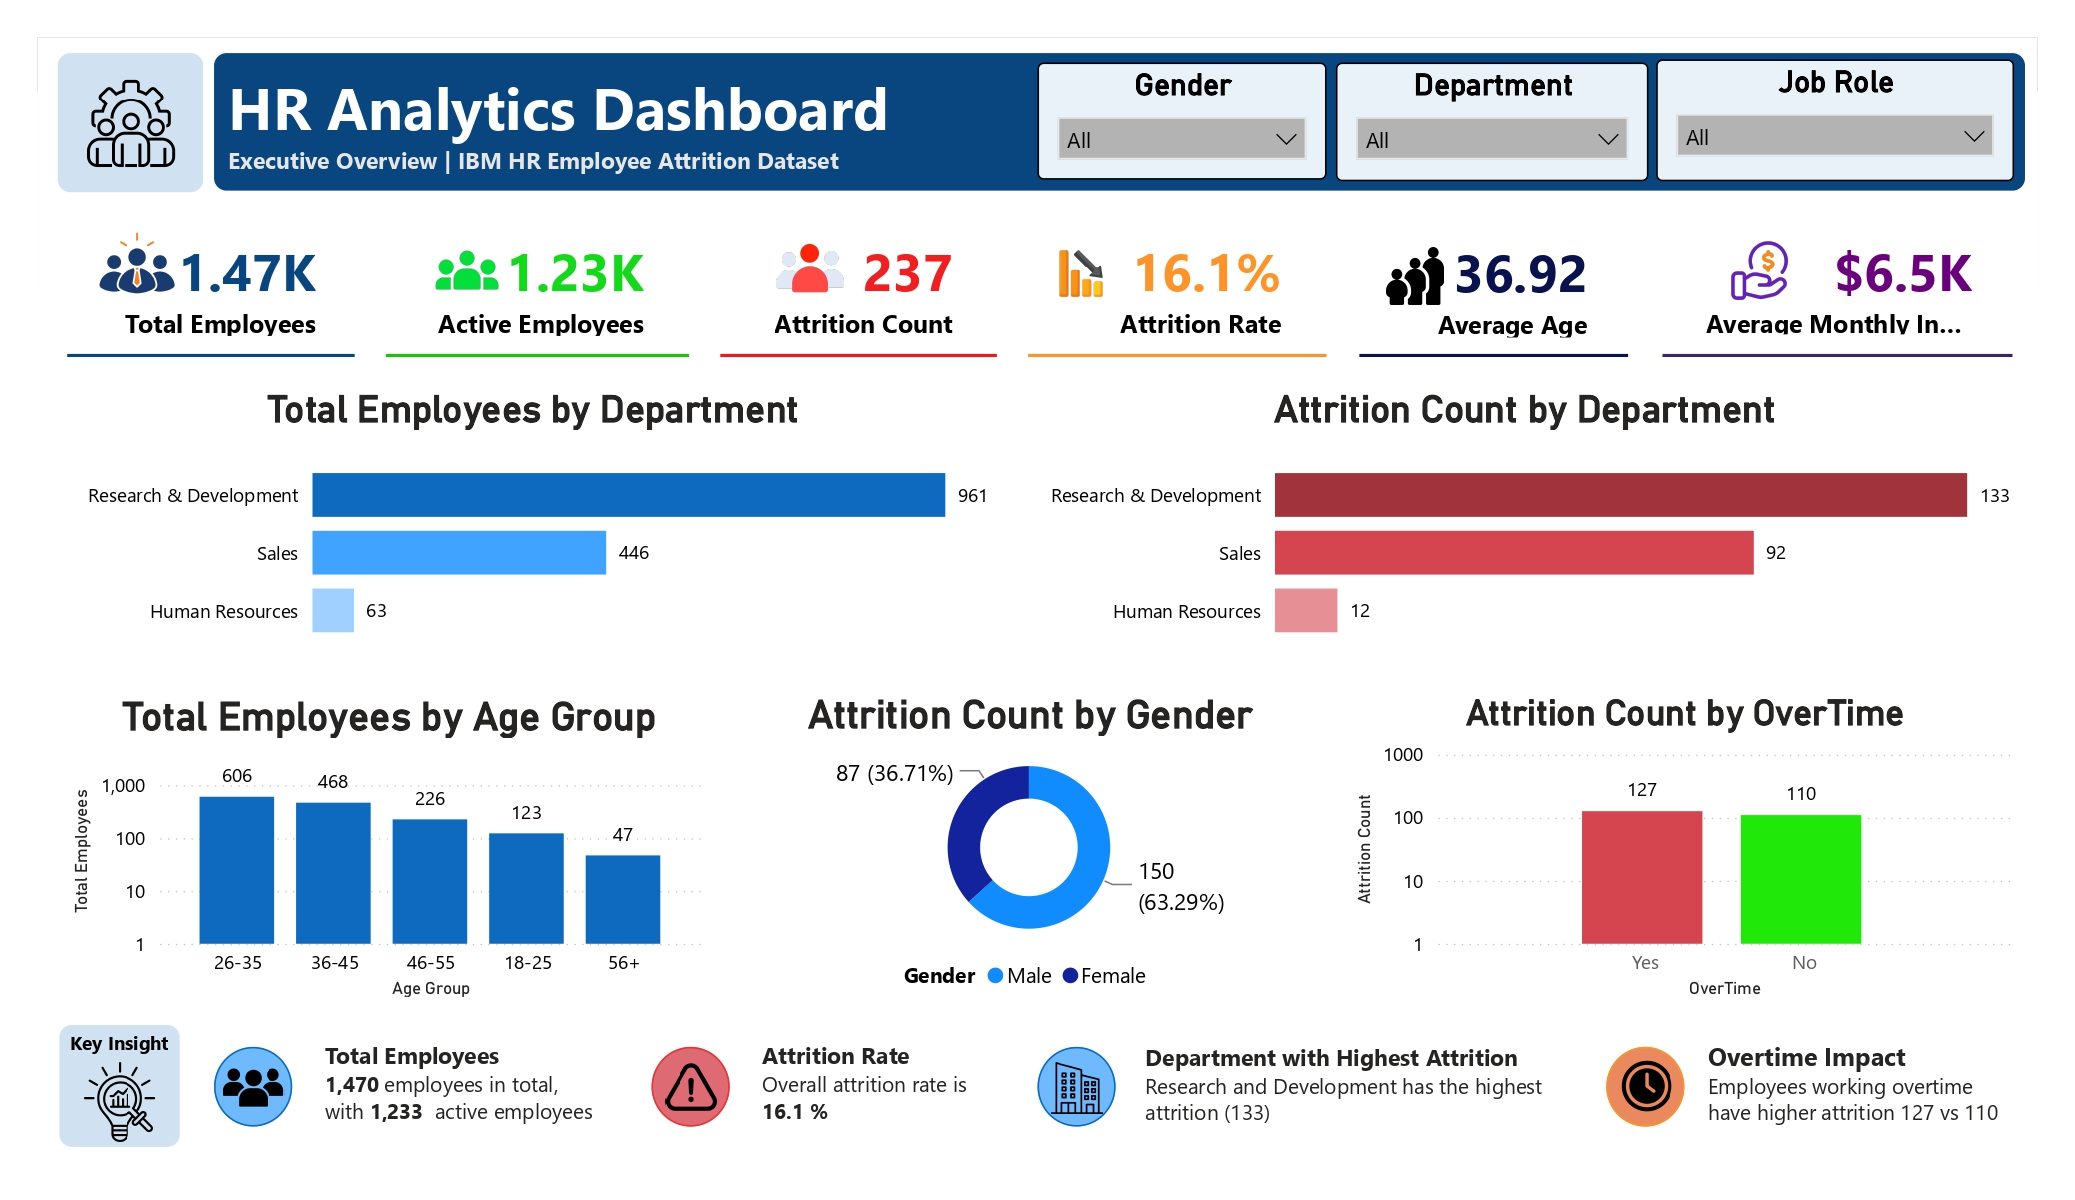

The page's visual inventory and layout, read from the dashboard file:
{"tool":"powerbi","page":{"name":"Page 1","canvas":[1280,720],"ordinal":0},"visuals":[{"type":"textbox","box":[112.6,10.5,1159.9,87.7],"z":0},{"type":"cardVisual","title":"Total Employes","fields":{"Data":["Employee.Total Employees"]},"box":[13.6,106.8,197.3,105.5],"z":1000},{"type":"cardVisual","title":"Active Employees","fields":{"Data":["Employee.Active Employees"]},"box":[218.9,106.7,202.2,105.6],"z":2000},{"type":"cardVisual","title":"Attrition Count","fields":{"Data":["Employee.Attrition Count"]},"box":[433.6,106.8,185.5,105.5],"z":3000},{"type":"cardVisual","title":"Attrition Rate","fields":{"Data":["Employee.Attrition Rate"]},"box":[630,106.8,200,105.5],"z":4000},{"type":"cardVisual","title":"Average Age ","fields":{"Data":["Employee.Average Age"]},"box":[838,107,187,106],"z":5000},{"type":"cardVisual","title":"Avg Monthly Income","fields":{"Data":["Employee.Average Monthly Income"]},"box":[1026.5,108.2,244.9,104.1],"z":6000},{"type":"clusteredBarChart","fields":{"Category":["Employee.Department"],"Y":["Employee.Total Employees"]},"box":[13.8,220,603.8,186.2],"z":7000},{"type":"clusteredBarChart","fields":{"Category":["Employee.Department"],"Y":["Employee.Attrition Count"]},"box":[630,220,641.8,186.4],"z":8000},{"type":"donutChart","fields":{"Category":["Employee.Gender"],"Y":["Employee.Attrition Count"]},"box":[442.5,413.8,383.8,208.8],"z":9000},{"type":"columnChart","fields":{"Category":["Employee.OverTime"],"Y":["Employee.Attrition Count"]},"box":[835.5,414.5,436.4,208.2],"z":10000},{"type":"clusteredColumnChart","fields":{"Category":["Employee.Age Group"],"Y":["Employee.Total Employees"]},"box":[13.8,415,420,207.5],"z":11000},{"type":"slicer","title":"Gender","fields":{"Values":["Employee.Gender"]},"box":[640,16,185,75],"z":12000},{"type":"slicer","title":"Job Role","fields":{"Values":["Employee.JobRole"]},"box":[1036.4,13.6,228.2,78.2],"z":13000},{"type":"slicer","title":"Department","fields":{"Values":["Employee.Department"]},"box":[830.9,16.4,200,75.5],"z":14000},{"type":"image","box":[18.6,110.7,51.4,62.1],"z":15000},{"type":"image","box":[232.9,122.9,41.4,50],"z":16000},{"type":"image","box":[452,125,43,48],"z":17000},{"type":"image","box":[648.6,131.4,38.6,40],"z":18000},{"type":"image","box":[862.9,131.4,37.1,41.4],"z":19000},{"type":"image","box":[1068.2,129.1,66.4,40],"z":20000},{"type":"textbox","box":[13.1,10.5,92.9,89],"z":21000},{"type":"image","box":[13.8,25,92.5,60],"z":22000},{"type":"textbox","box":[13.6,631.8,77.3,78.2],"z":23000},{"type":"textbox","box":[95.5,631.8,275.5,78.2],"z":24000},{"type":"textbox","box":[374.5,631.8,240,78.2],"z":25000},{"type":"textbox","box":[620,631.8,354.5,78.2],"z":26000},{"type":"textbox","box":[980,631.8,291.8,79.1],"z":27000},{"type":"image","title":"Key Insight","box":[15.5,634.5,74.5,72.7],"z":28000},{"type":"shape","box":[112.7,646.4,50,50.9],"z":29000},{"type":"shape","box":[392.7,646.4,50,50.9],"z":30000},{"type":"shape","box":[640,646.4,50,50.9],"z":31000},{"type":"shape","box":[1003.6,646.4,50,50.9],"z":32000},{"type":"image","box":[118,640,40,64],"z":33000},{"type":"image","box":[648.2,656.4,34.5,32.7],"z":34000},{"type":"image","box":[401.8,651.8,32.7,39.1],"z":35000},{"type":"image","box":[1012.9,651.4,34.3,40],"z":36000},{"type":"shape","box":[18.6,164.3,184.3,78.6],"z":37000},{"type":"shape","box":[223,164,194,79],"z":38000},{"type":"shape","box":[437,164,177,79],"z":39000},{"type":"shape","box":[634,164,191,79],"z":40000},{"type":"shape","box":[845.7,164.3,172,78.6],"z":41000},{"type":"shape","box":[1040,164.3,224.3,78.6],"z":42000}]}

Visuals, with their boxes on the page's 1280x720 design canvas (x1, y1, x2, y2). These are canvas units, not pixel positions in the 2075x1200 screenshot, which may show the page scaled, cropped or inside an application window:
textbox: bbox(113, 10, 1272, 98)
"Total Employes" cardVisual: bbox(14, 107, 211, 212)
"Active Employees" cardVisual: bbox(219, 107, 421, 212)
"Attrition Count" cardVisual: bbox(434, 107, 619, 212)
"Attrition Rate" cardVisual: bbox(630, 107, 830, 212)
"Average Age " cardVisual: bbox(838, 107, 1025, 213)
"Avg Monthly Income" cardVisual: bbox(1026, 108, 1271, 212)
clusteredBarChart - Employee.Department x Employee.Total Employees: bbox(14, 220, 618, 406)
clusteredBarChart - Employee.Department x Employee.Attrition Count: bbox(630, 220, 1272, 406)
donutChart - Employee.Gender x Employee.Attrition Count: bbox(442, 414, 826, 623)
columnChart - Employee.OverTime x Employee.Attrition Count: bbox(836, 414, 1272, 623)
clusteredColumnChart - Employee.Age Group x Employee.Total Employees: bbox(14, 415, 434, 622)
"Gender" slicer: bbox(640, 16, 825, 91)
"Job Role" slicer: bbox(1036, 14, 1265, 92)
"Department" slicer: bbox(831, 16, 1031, 92)
image: bbox(19, 111, 70, 173)
image: bbox(233, 123, 274, 173)
image: bbox(452, 125, 495, 173)
image: bbox(649, 131, 687, 171)
image: bbox(863, 131, 900, 173)
image: bbox(1068, 129, 1135, 169)
textbox: bbox(13, 10, 106, 100)
image: bbox(14, 25, 106, 85)
textbox: bbox(14, 632, 91, 710)
textbox: bbox(96, 632, 371, 710)
textbox: bbox(374, 632, 614, 710)
textbox: bbox(620, 632, 974, 710)
textbox: bbox(980, 632, 1272, 711)
"Key Insight" image: bbox(16, 634, 90, 707)
shape: bbox(113, 646, 163, 697)
shape: bbox(393, 646, 443, 697)
shape: bbox(640, 646, 690, 697)
shape: bbox(1004, 646, 1054, 697)
image: bbox(118, 640, 158, 704)
image: bbox(648, 656, 683, 689)
image: bbox(402, 652, 434, 691)
image: bbox(1013, 651, 1047, 691)
shape: bbox(19, 164, 203, 243)
shape: bbox(223, 164, 417, 243)
shape: bbox(437, 164, 614, 243)
shape: bbox(634, 164, 825, 243)
shape: bbox(846, 164, 1018, 243)
shape: bbox(1040, 164, 1264, 243)
